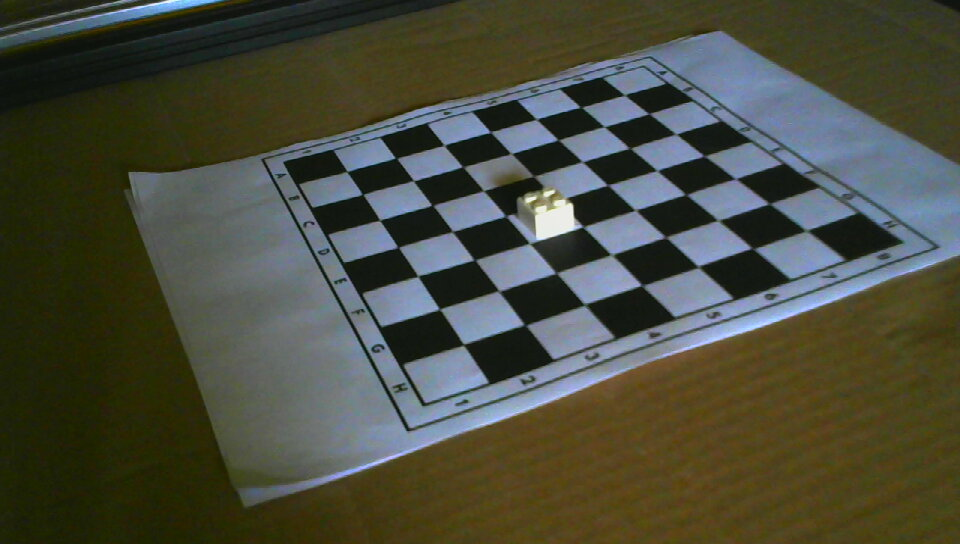wp: (517, 186, 575, 239)
